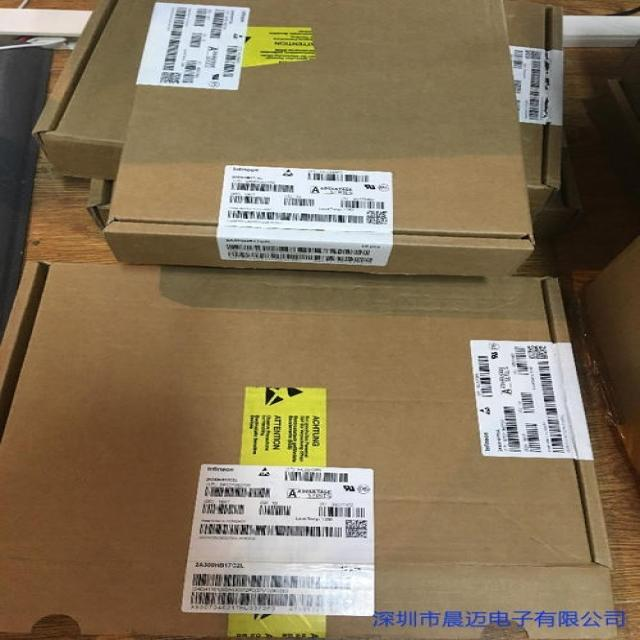box: (0, 261, 620, 640), (104, 0, 535, 278), (31, 0, 155, 181), (502, 1, 563, 226), (575, 234, 640, 423), (532, 132, 580, 241), (609, 79, 640, 145), (88, 177, 115, 231)
